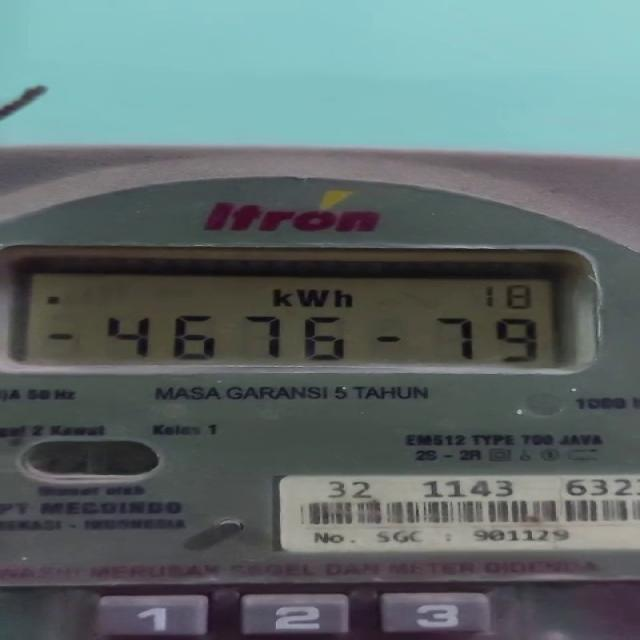LCD: (9, 251, 597, 374)
